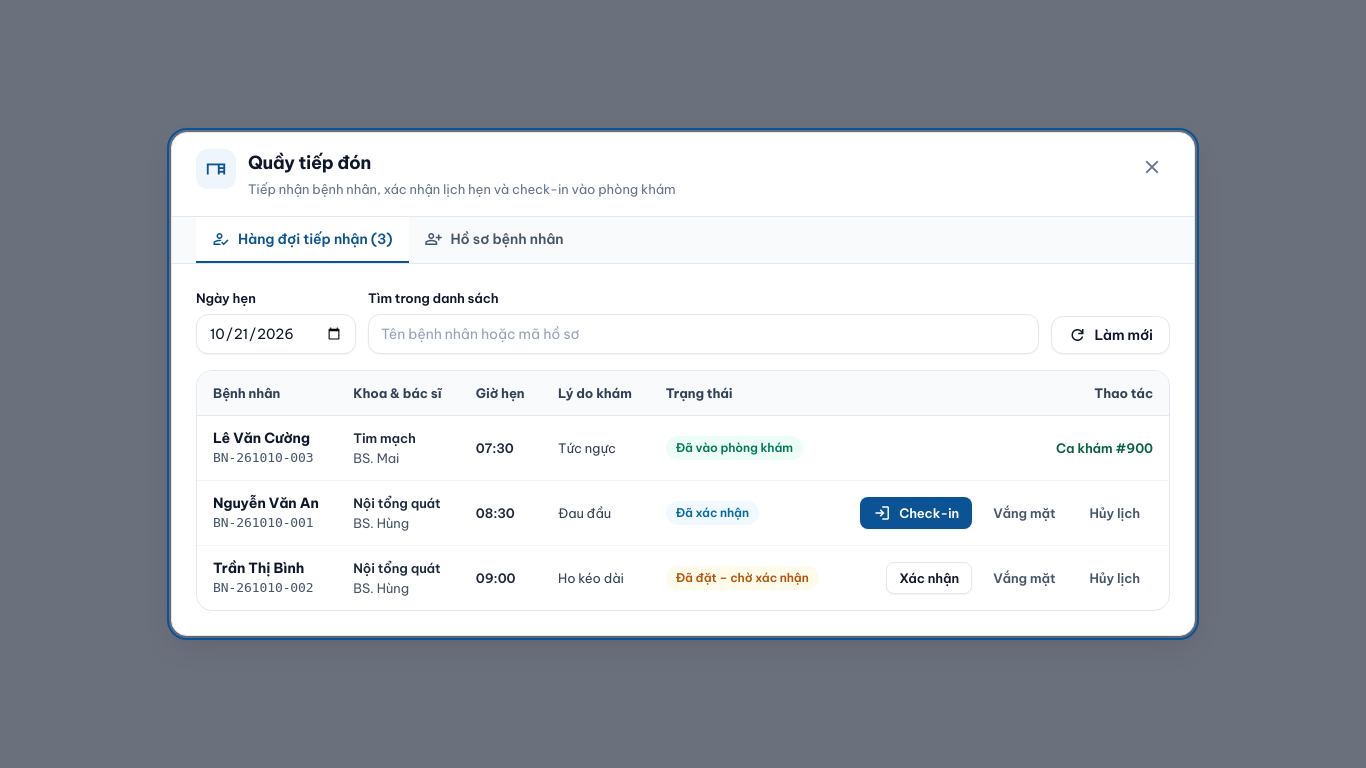
Test case: ReceptionDashboardModal – giao diện quầy tiếp đón › check-in từ giao diện: tạo ca khám qua API rồi tải lại hàng đợi
Expected: the text "Nguyễn Văn An" is shown, [213, 493, 321, 513]
Expected: the text "Ca khám #900" is shown, [1056, 438, 1153, 458]
Click the button with aria-label "Check-in Nguyễn Văn An". click: [916, 513]
box: [860, 497, 972, 529]
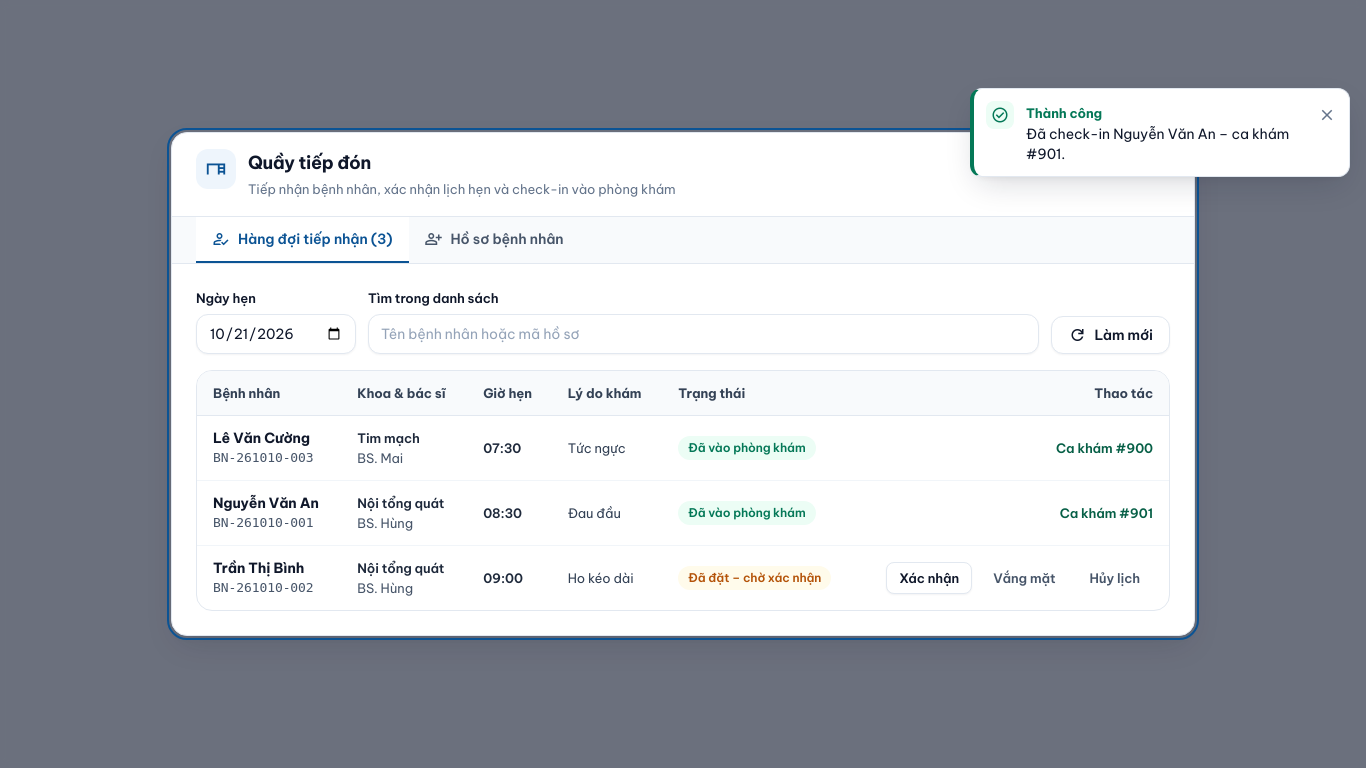
Expected: the text "Đã check-in Nguyễn Văn An – ca khám #901." is shown, [1026, 125, 1289, 163]
Expected: the text "Ca khám #901" is shown, [1060, 503, 1153, 523]
